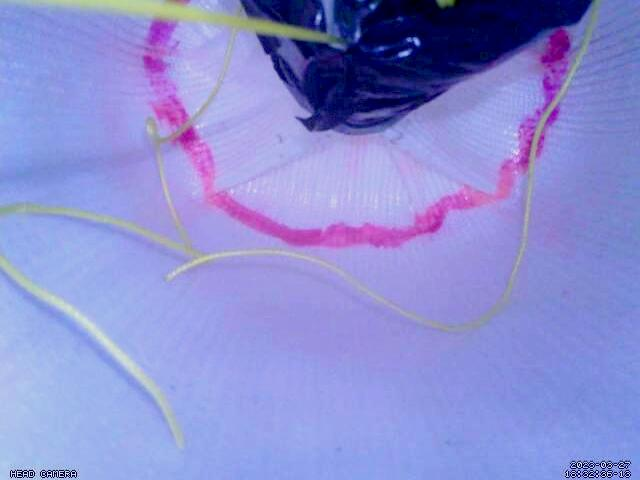head: (141, 18, 574, 250)
